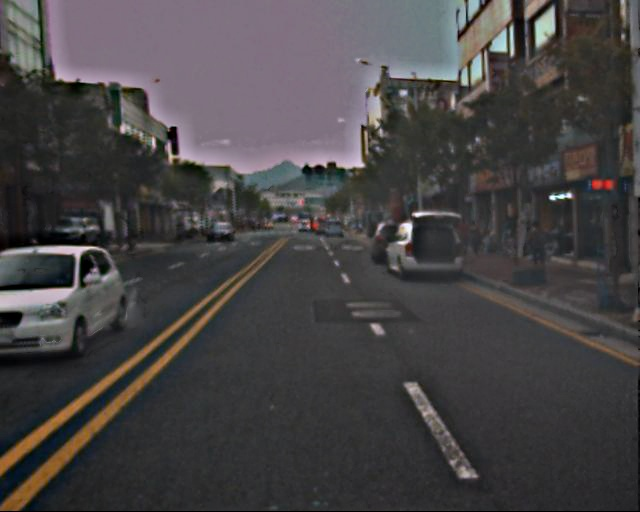person: (527, 221, 551, 279), (454, 216, 472, 256), (469, 219, 486, 254)
